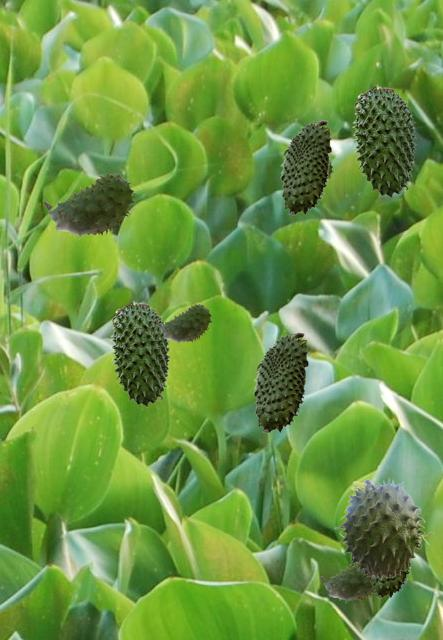guyabano: (334, 477, 433, 578), (352, 84, 416, 197), (110, 300, 170, 406), (43, 173, 134, 238), (253, 332, 308, 432), (280, 120, 331, 214), (320, 563, 375, 602), (156, 304, 211, 343), (369, 560, 411, 597)
